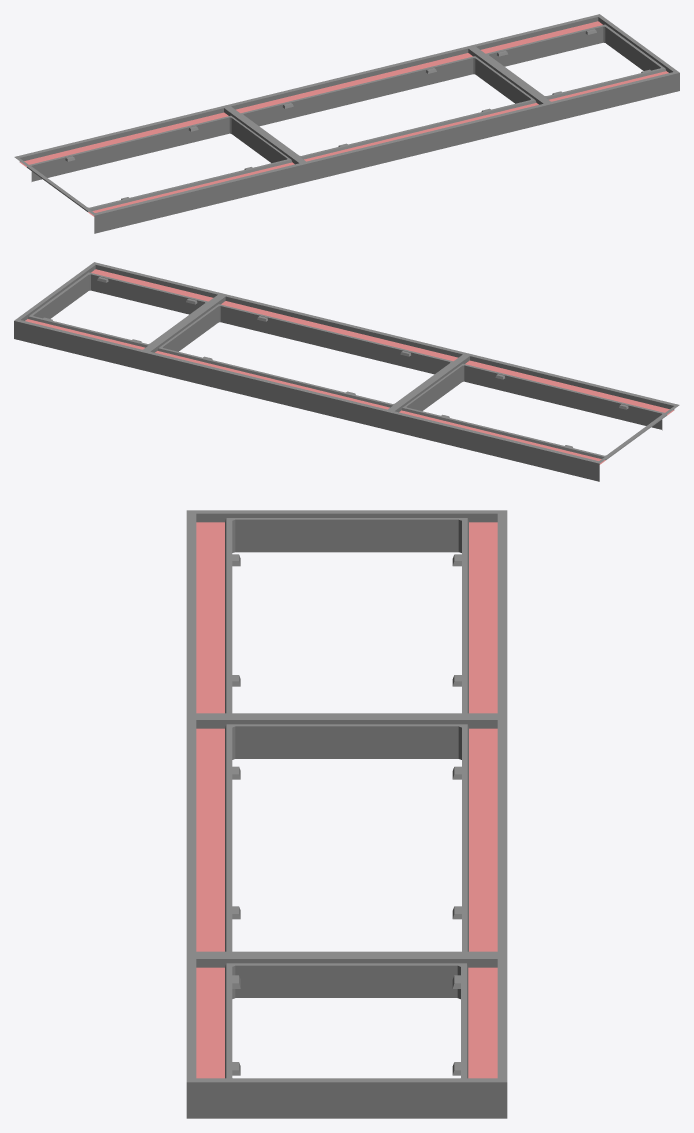
Rendered from S_Envi_FZFbase_Roof_01k.gltf.
3 views of the same model, one above another, from view 1: azimuth 30°, elevation 25°; view 2: azimuth 150°, elevation 25°; view 3: azimuth 270°, elevation 25° (orthographic). The views are drawn at different scales.
Visible parts, largest first — view 1: S_Envi_FZFbase_Roof_01k; view 2: S_Envi_FZFbase_Roof_01k; view 3: S_Envi_FZFbase_Roof_01k.
Boxes of the visible parts, <box> form: S_Envi_FZFbase_Roof_01k: <box>14,14,679,233</box>; S_Envi_FZFbase_Roof_01k: <box>14,262,679,481</box>; S_Envi_FZFbase_Roof_01k: <box>186,510,507,1118</box>.
Size of the model in its own units: 16.87 by 0.5001 by 4.
